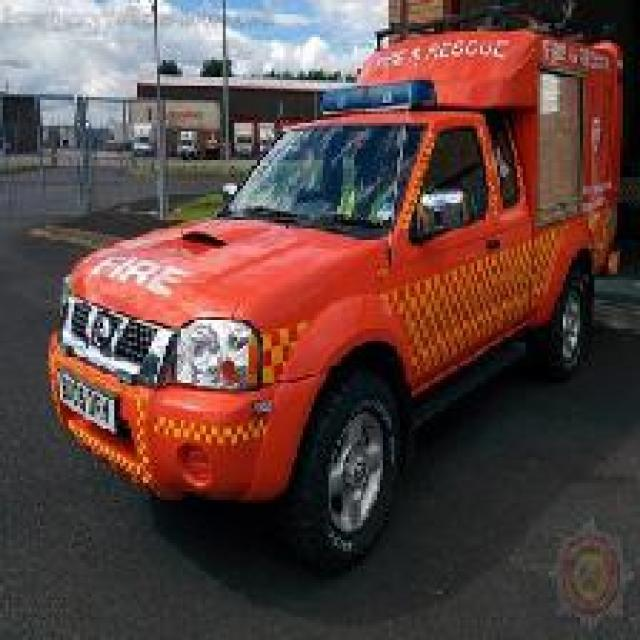emergency: (43, 14, 629, 574)
